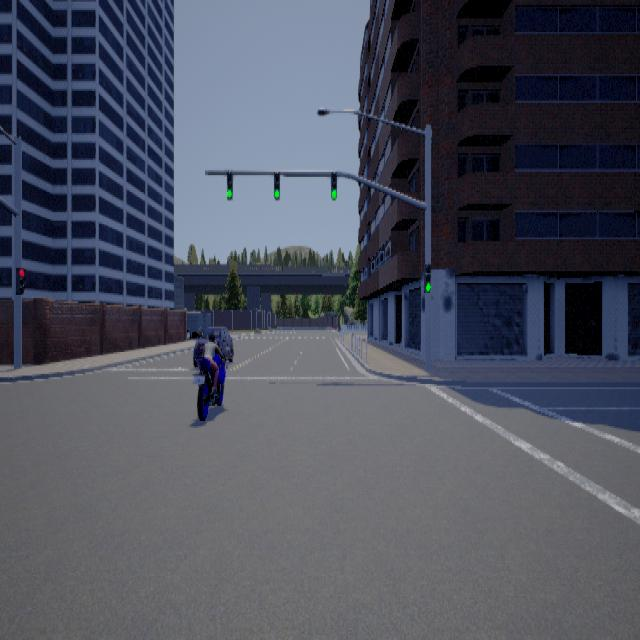green_light: (424, 263, 431, 292), (226, 168, 232, 199), (330, 170, 336, 199), (273, 170, 279, 199)
motobike: (192, 330, 227, 419)
red_light: (15, 266, 25, 293)
vehicle: (191, 323, 233, 362)
